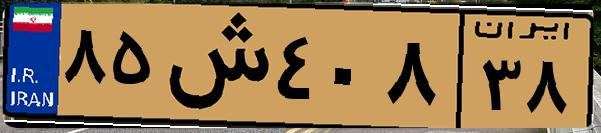0: (330, 28, 385, 110)
3: (475, 38, 525, 113)
4: (270, 28, 330, 110)
5: (110, 28, 158, 98)
8: (385, 28, 445, 110), (57, 26, 110, 100), (525, 38, 570, 115)
ش: (158, 12, 270, 120)
